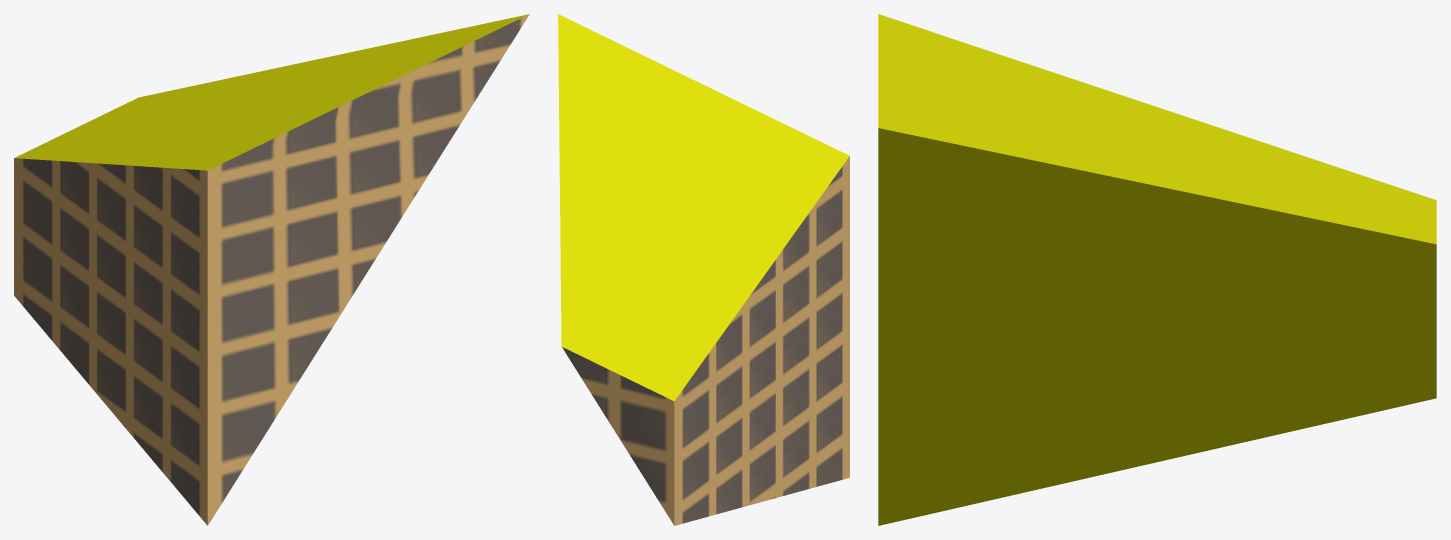
The model's file is ST2Shard4.fbx.
3 renders of one model, left to right at view 1: azimuth 30°, elevation 25°; view 2: azimuth 150°, elevation 25°; view 3: azimuth 270°, elevation 25°, orthographic. The views are drawn at different scales.
Visible parts, largest first — view 1: shard4; view 2: shard4; view 3: shard4.
Boxes of the visible parts, x1,y1,x2,y2 form: shard4: (14, 14, 529, 525); shard4: (558, 14, 849, 525); shard4: (878, 14, 1436, 525).
Size of the model in its own units: 0.0984 by 0.1265 by 0.1025.
2 materials, 1 textured.
